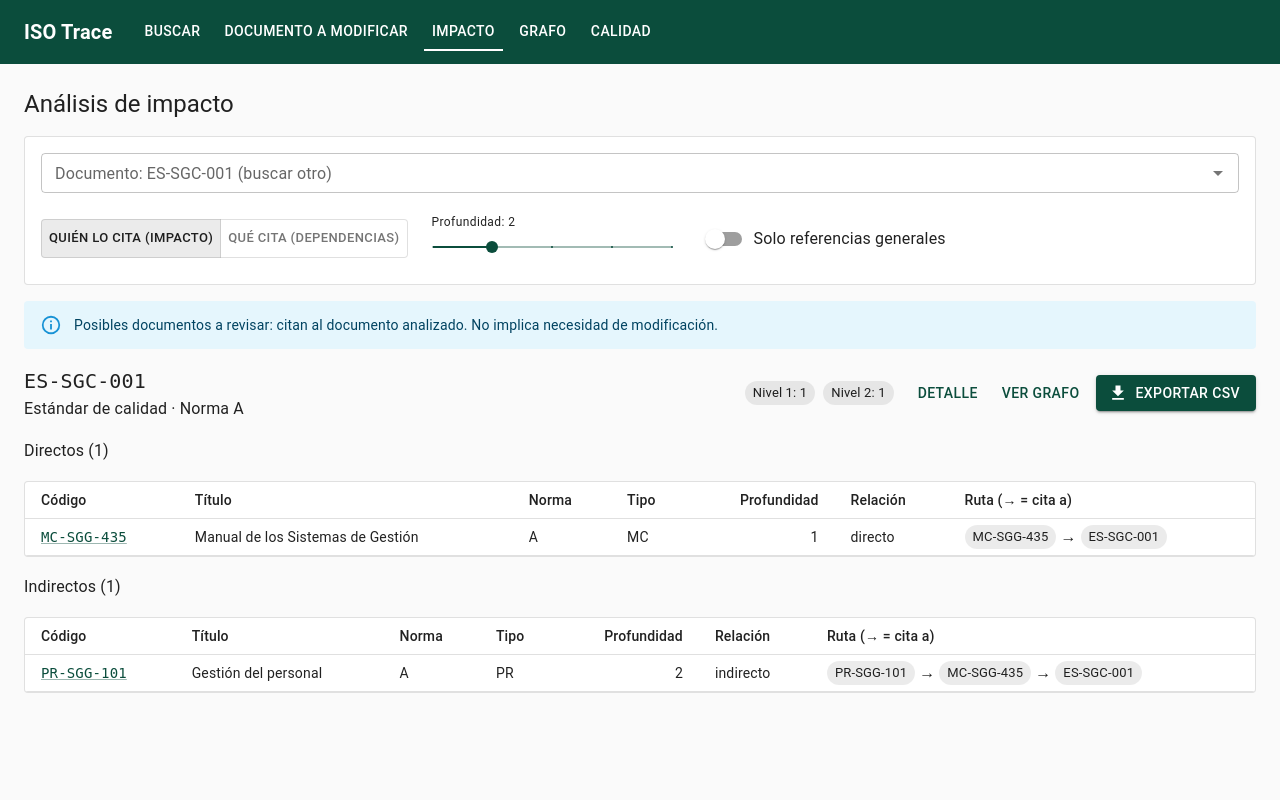
Test: ImpactPage › cambia a dependencias sin el aviso de impacto
The image size is (1280, 800).
What coordinates should you click on to do the following:
click the button "Qué cita (dependencias)"
I would click on:
 (314, 238)
Its box is top-left (220, 219), bottom-right (408, 258).
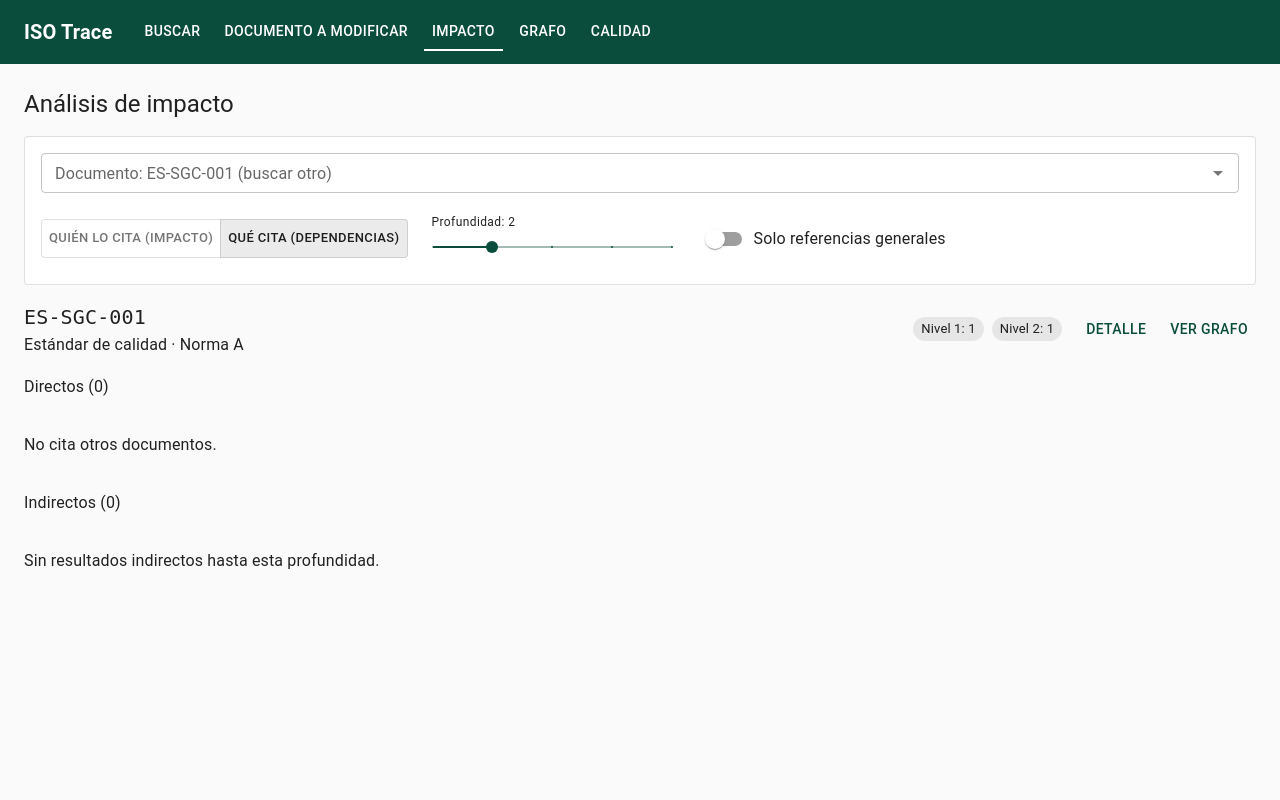
Expected: the text "No cita otros documentos." is shown, top-left (24, 435), bottom-right (217, 454)
